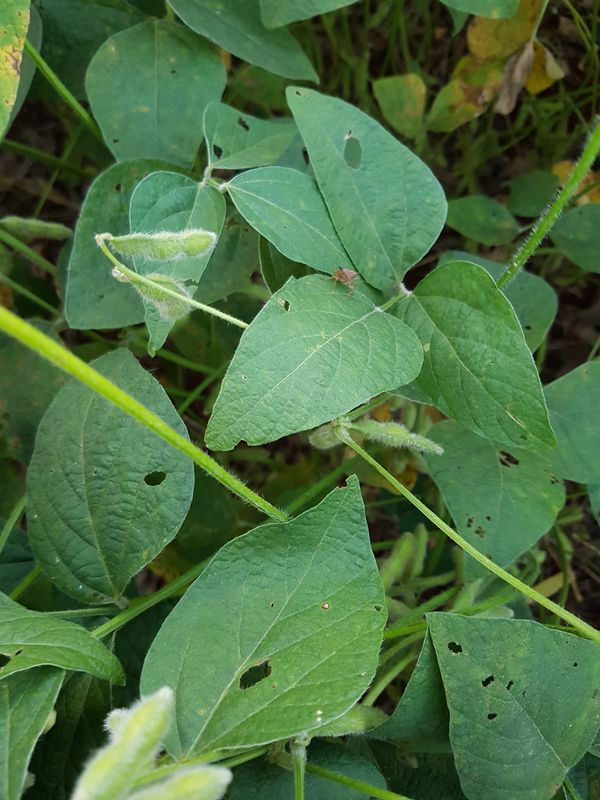Euschistus_heros_adulto: (322, 258, 367, 295)
